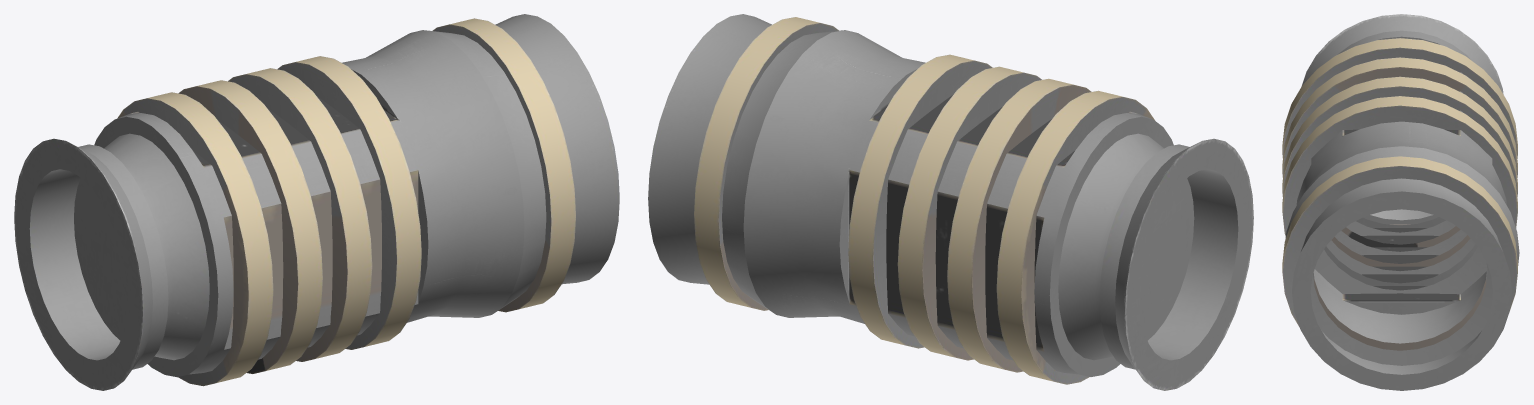
The model's file is pommel_13_c_b.glb.
3 renders of one model, left to right at view 1: azimuth 30°, elevation 25°; view 2: azimuth 150°, elevation 25°; view 3: azimuth 270°, elevation 25°, orthographic. The views are drawn at different scales.
Parts seen in each view (by area): view 1: pommel_13_c_b_lod0; view 2: pommel_13_c_b_lod0; view 3: pommel_13_c_b_lod0.
Boxes of the visible parts, x1=… form: pommel_13_c_b_lod0: x1=14, y1=14, x2=619, y2=390; pommel_13_c_b_lod0: x1=648, y1=14, x2=1253, y2=390; pommel_13_c_b_lod0: x1=1282, y1=14, x2=1519, y2=390.
Size of what is drawn, in the model's own units: 0.0574 by 0.031 by 0.0312.
1 material, 1 textured.
